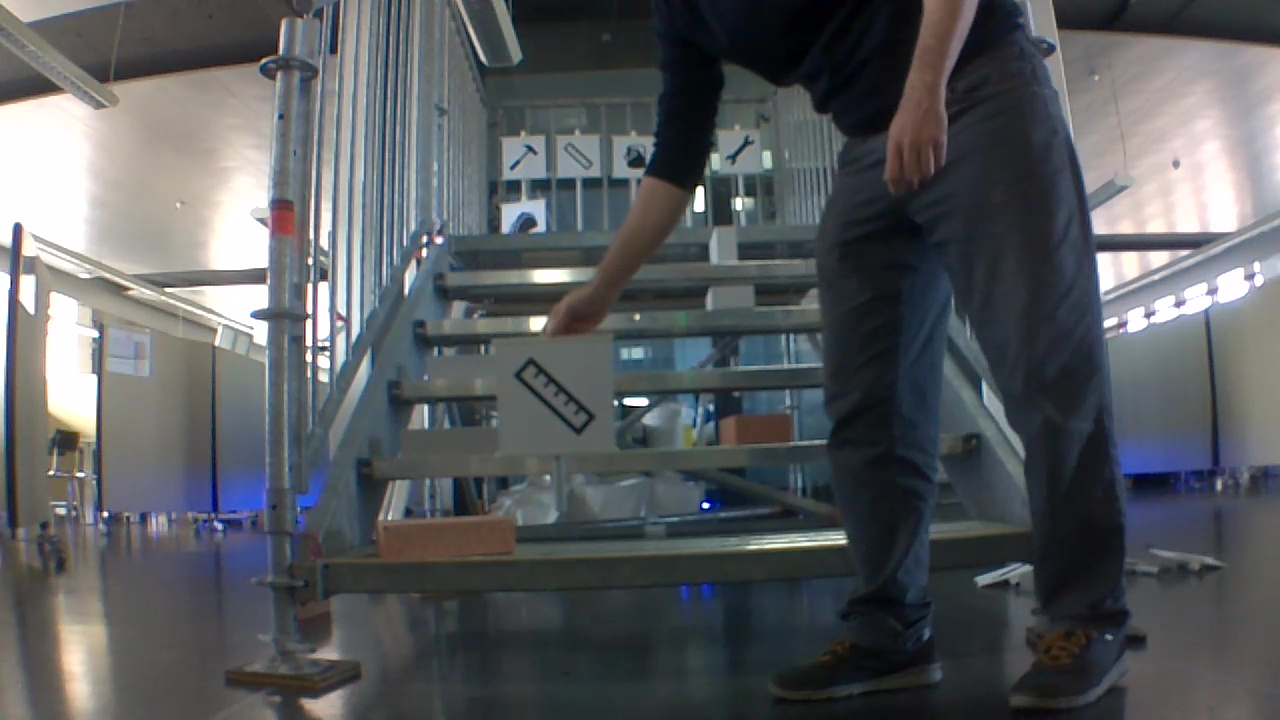brick: (377, 512, 514, 559), (729, 408, 798, 445), (710, 218, 739, 267), (705, 285, 757, 308)
bucket: (622, 141, 645, 169)
hammer: (507, 143, 539, 173)
ruler: (511, 352, 598, 437), (563, 140, 595, 172)
taco: (508, 211, 539, 234)
wrench: (725, 132, 755, 169)
